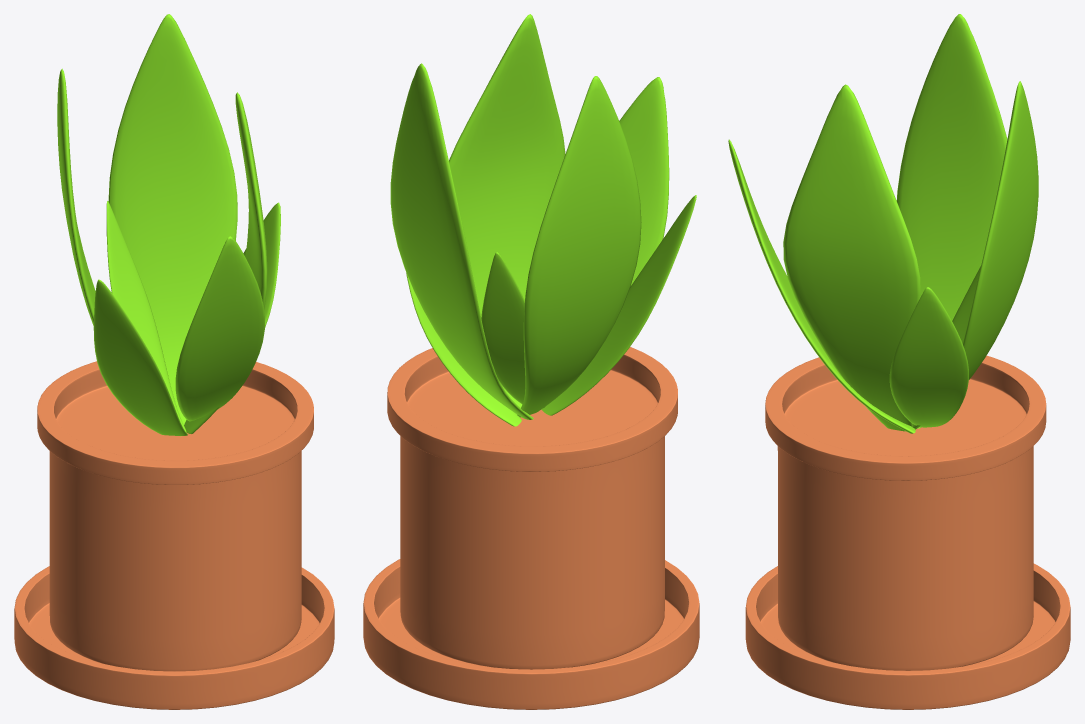
The model's file is MiniPlant.fbx.
The picture shows the model from 3 angles, left to right: view 1: azimuth 30°, elevation 25°; view 2: azimuth 150°, elevation 25°; view 3: azimuth 270°, elevation 25°; orthographic projection. The views are drawn at different scales.
Parts seen in each view (by area): view 1: Plane.003; view 2: Plane.003; view 3: Plane.003.
Boxes of the visible parts, box(x1,y1,x2,y2) form: Plane.003: box(14, 14, 334, 709); Plane.003: box(363, 14, 699, 709); Plane.003: box(728, 14, 1070, 709).
Bounding box in the file's own units: 394 × 782 × 415.
